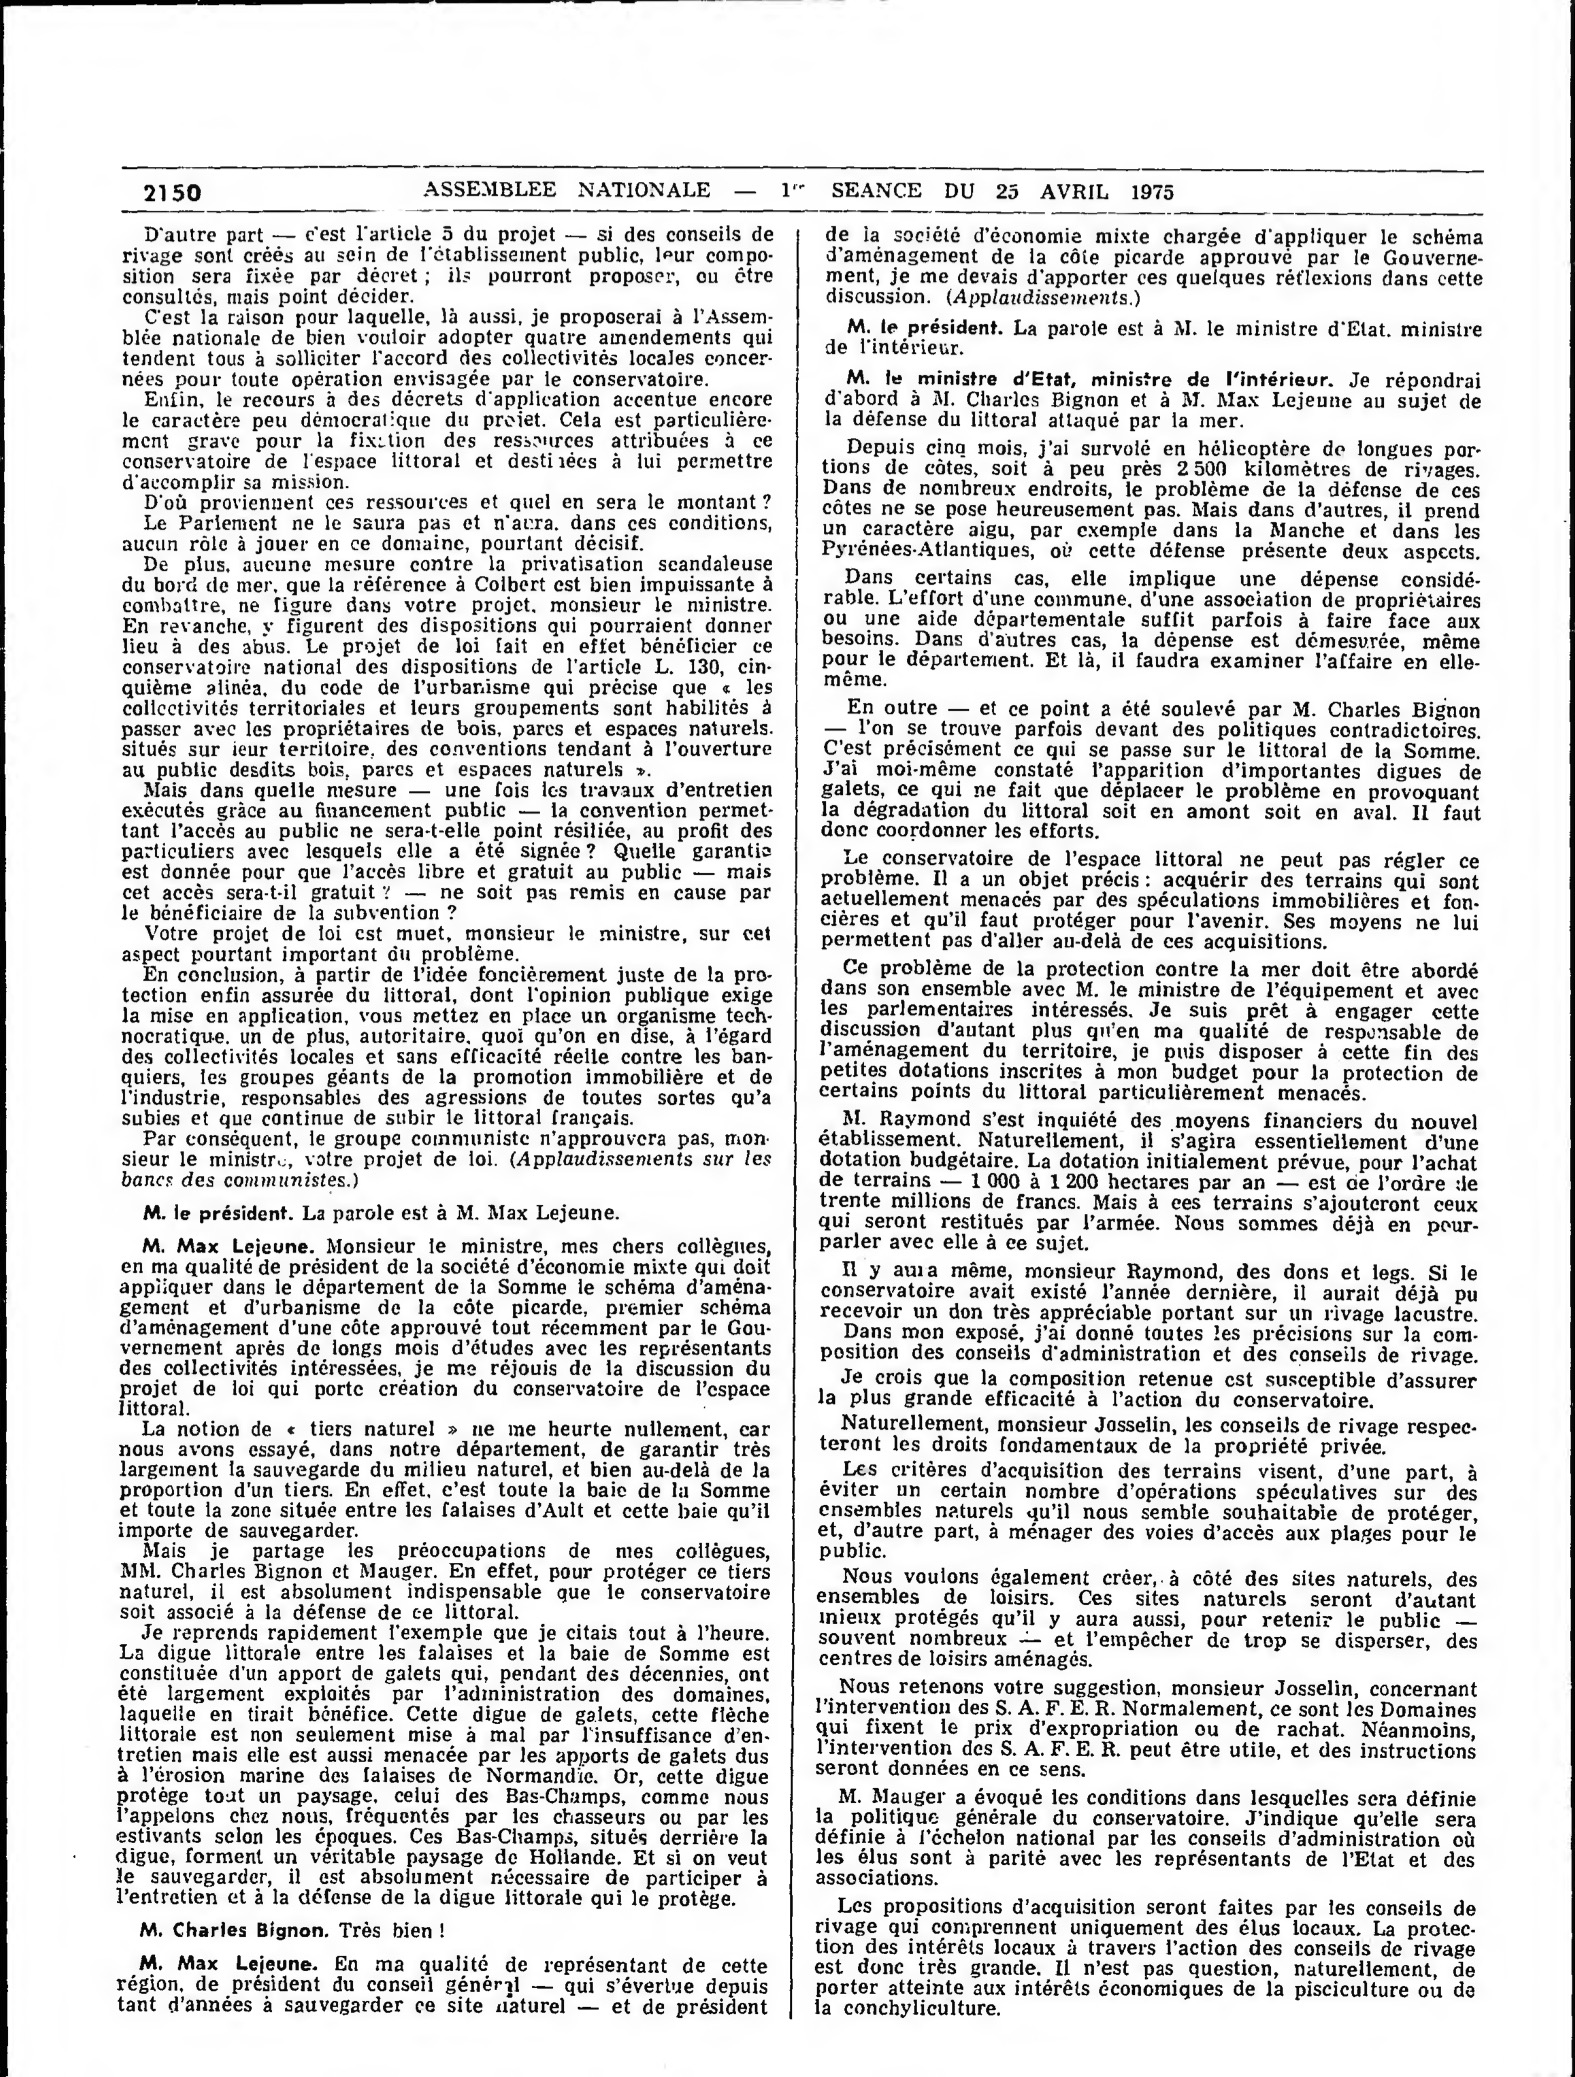MainZone-Continued: (819, 220, 1492, 311)
MainZone-P: (109, 1621, 779, 1912), (114, 552, 779, 781), (112, 1232, 778, 1417), (114, 964, 779, 1128), (816, 695, 1487, 843), (816, 956, 1487, 1105), (812, 1106, 1482, 1255), (114, 781, 781, 923), (809, 1892, 1482, 2024), (817, 435, 1489, 562), (817, 564, 1487, 691), (112, 1417, 778, 1541), (816, 845, 1487, 956), (809, 1674, 1484, 1783), (812, 1564, 1486, 1672), (809, 1784, 1482, 1892), (812, 1457, 1484, 1563), (114, 389, 779, 493), (116, 217, 779, 308), (116, 304, 779, 390), (112, 1540, 779, 1622), (106, 1950, 776, 2026), (817, 365, 1487, 435), (114, 1128, 781, 1194), (812, 1257, 1487, 1321), (817, 311, 1489, 364), (809, 1411, 1484, 1459), (811, 1320, 1487, 1366), (809, 1366, 1484, 1411), (112, 923, 779, 964), (116, 513, 781, 554), (114, 491, 779, 516), (121, 1197, 630, 1229), (109, 1913, 450, 1948)
NumberingZone: (134, 179, 208, 210)
RunningTitleZone: (415, 167, 1186, 212)
